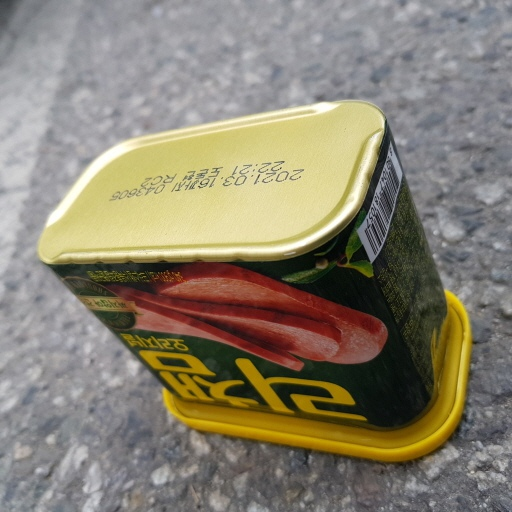Metal_2: (42, 101, 472, 463)
